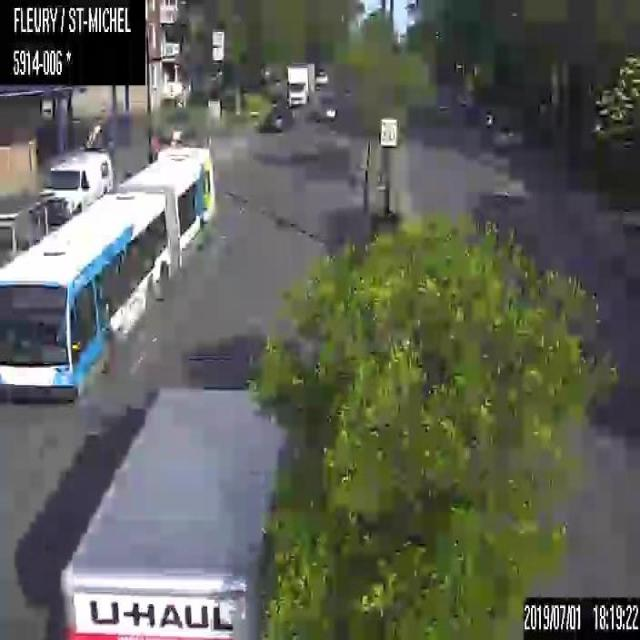bus: (0, 142, 216, 401)
vehicle: (59, 385, 284, 639), (33, 146, 114, 228), (283, 59, 317, 112), (486, 112, 524, 152), (262, 104, 292, 134), (319, 103, 341, 121)
